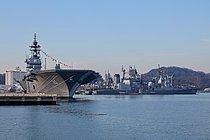MIL_Ship: (16, 28, 102, 99)
